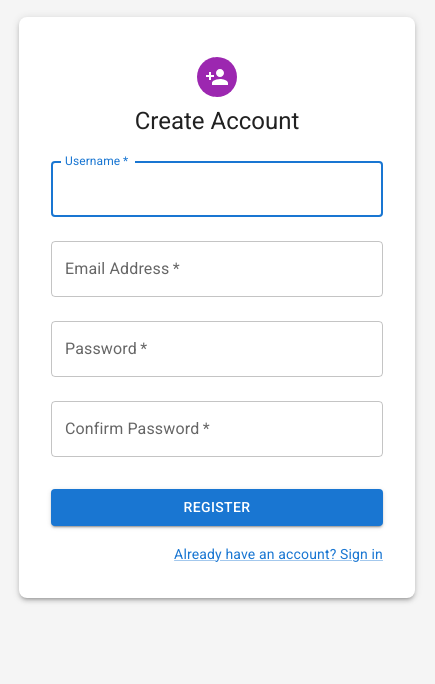
Test: Register Component - Full Coverage › displays API error returned from backend
This screenshot has width=435, height=684.
In the field labelled "Username *": [217, 189] box 51,161 -> 383,217, type "testuser"
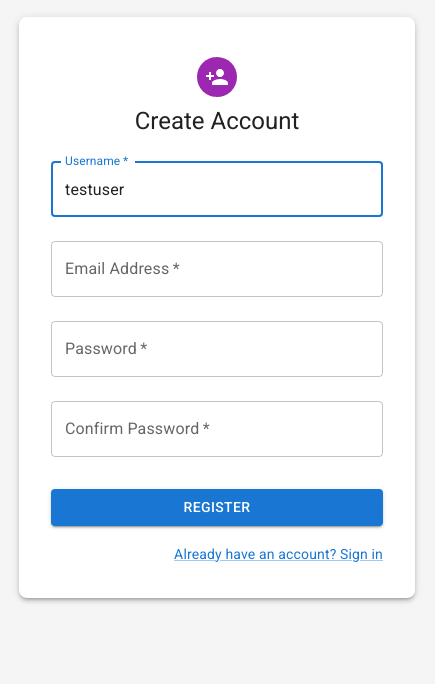
In the field labelled "Email Address *": [217, 269] box 51,241 -> 383,297, type "test@example.com"
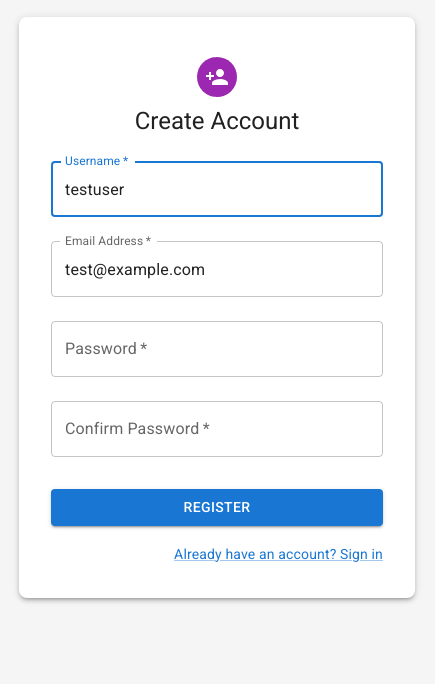
Click the button "Register": [217, 507] box 51,489 -> 383,526
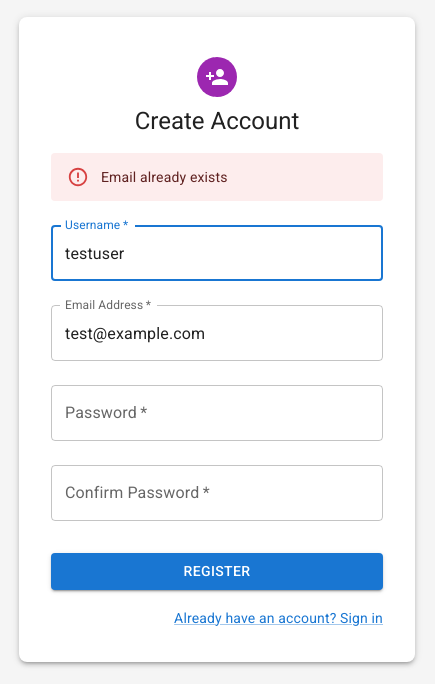
Expected: the text "Email already exists" is shown, 101,169 -> 228,185
